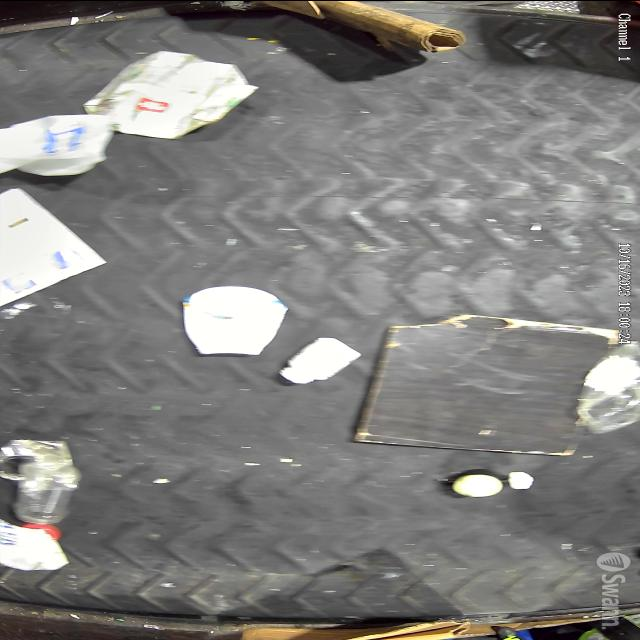can: (0, 444, 42, 480)
milk_jug: (180, 286, 288, 356), (0, 114, 110, 176)
non_white_jug: (85, 48, 256, 138)
